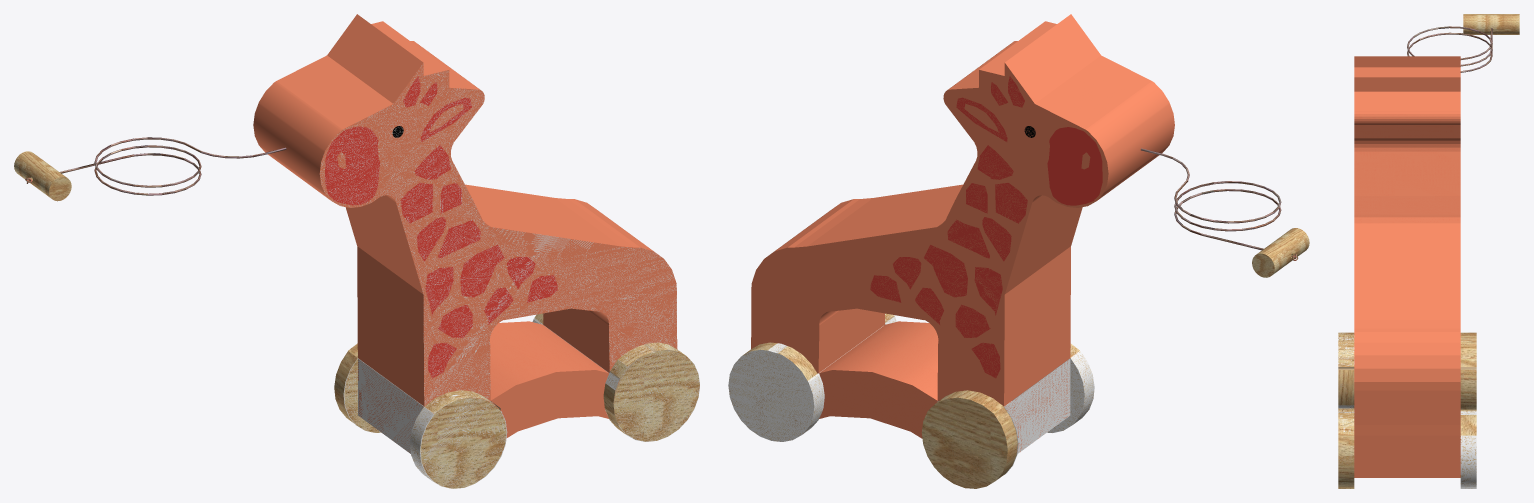
3 views of the same model, side by side, from view 1: azimuth 30°, elevation 25°; view 2: azimuth 150°, elevation 25°; view 3: azimuth 270°, elevation 25° (orthographic). The views are drawn at different scales.
Parts seen in each view (by area): view 1: SketchUp (×18), group_1, Handle; view 2: SketchUp (×16), group_1, Handle; view 3: SketchUp (×11), Handle, group_1.
Part boxes in pixels (x1=…): SketchUp (×18): x1=253, y1=14, x2=699, y2=488; group_1: x1=59, y1=137, x2=286, y2=195; Handle: x1=14, y1=151, x2=71, y2=201; SketchUp (×16): x1=728, y1=14, x2=1174, y2=488; group_1: x1=1140, y1=148, x2=1281, y2=250; Handle: x1=1252, y1=228, x2=1309, y2=277; SketchUp (×11): x1=1338, y1=56, x2=1476, y2=488; Handle: x1=1463, y1=14, x2=1519, y2=34; group_1: x1=1407, y1=26, x2=1492, y2=72.
Bounding box in the file's own units: 8.4 × 2.84 × 5.91.
Materials: 13 (4 with a texture image).
